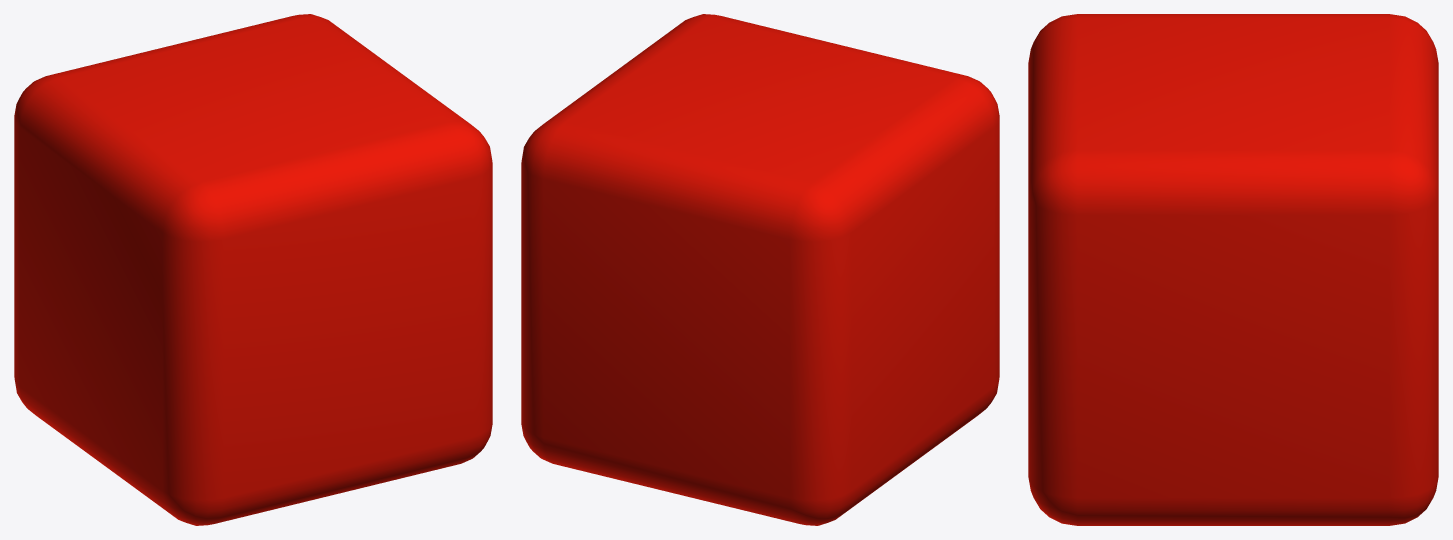
File: SimpleScene.fbx
3 renders of one model, left to right at view 1: azimuth 30°, elevation 25°; view 2: azimuth 150°, elevation 25°; view 3: azimuth 270°, elevation 25°, orthographic. The views are drawn at different scales.
Parts seen in each view (by area): view 1: Cube; view 2: Cube; view 3: Cube.
Boxes of the visible parts, x1,y1,x2,y2 form: Cube: (14, 14, 492, 525); Cube: (521, 14, 999, 525); Cube: (1028, 14, 1438, 525).
Size of what is drawn, in the model's own units: 20 by 20 by 20.
